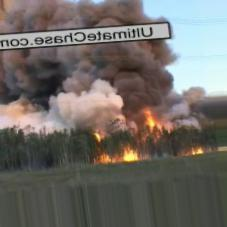fire: (79, 105, 219, 165)
